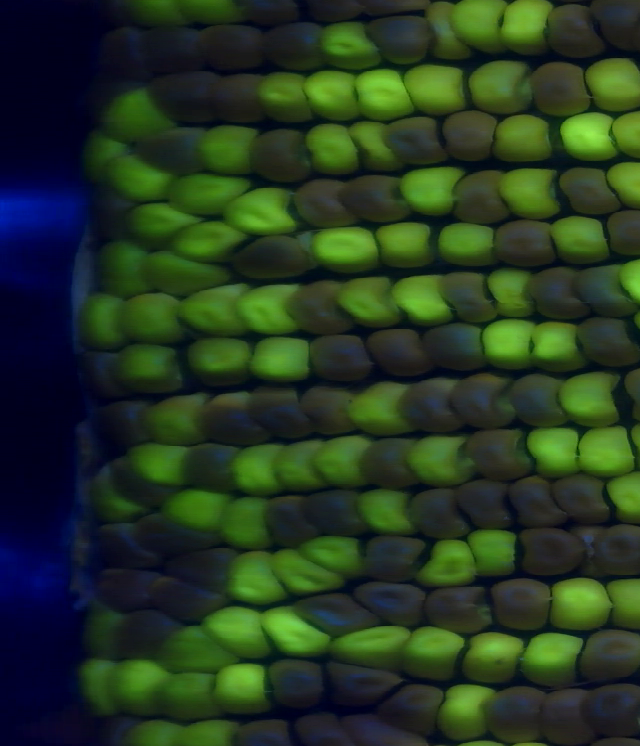fluorescent: (323, 620, 420, 673), (395, 620, 471, 687), (201, 604, 285, 664), (246, 329, 327, 389), (104, 150, 182, 212), (176, 287, 265, 341), (261, 605, 340, 665), (125, 441, 204, 499), (93, 242, 164, 304), (520, 633, 593, 691), (497, 166, 564, 229), (247, 69, 318, 128), (145, 670, 227, 721), (196, 122, 267, 180), (118, 290, 195, 343), (402, 61, 473, 118), (547, 573, 619, 629), (351, 484, 423, 540), (71, 657, 130, 725), (169, 218, 256, 264), (155, 623, 240, 670), (183, 331, 256, 385), (304, 121, 368, 182), (100, 87, 178, 137), (137, 394, 213, 445), (457, 633, 529, 686), (303, 226, 384, 273), (489, 117, 562, 169), (213, 489, 275, 550), (480, 259, 544, 318), (396, 273, 462, 330), (73, 292, 139, 349), (403, 167, 469, 224), (115, 343, 187, 395), (299, 66, 367, 121), (222, 551, 291, 605), (234, 287, 305, 339), (464, 60, 531, 115), (492, 1, 559, 56), (164, 485, 242, 532), (302, 535, 371, 588), (142, 251, 231, 292), (223, 189, 300, 236), (107, 660, 174, 714), (526, 426, 594, 479), (435, 680, 497, 738), (211, 662, 276, 717), (372, 219, 437, 274), (559, 367, 623, 422), (271, 546, 341, 596), (410, 433, 473, 488), (552, 212, 616, 266), (319, 22, 394, 68), (557, 111, 622, 164), (350, 65, 415, 118), (166, 173, 254, 212), (433, 221, 507, 267), (418, 534, 479, 589), (335, 278, 397, 332), (269, 439, 334, 490), (87, 462, 142, 522), (480, 321, 545, 371), (77, 601, 133, 659), (465, 526, 524, 581), (583, 55, 640, 111), (230, 443, 286, 500), (78, 126, 130, 186), (452, 1, 513, 52), (577, 423, 633, 478), (316, 436, 372, 491), (344, 385, 412, 430), (530, 320, 583, 376), (120, 717, 222, 746), (348, 118, 402, 171), (115, 198, 191, 234), (177, 717, 256, 746), (127, 1, 203, 30), (180, 1, 254, 28), (604, 471, 640, 522), (608, 576, 640, 632), (610, 157, 640, 213)
nonfluorescent: (538, 1, 618, 65), (298, 483, 378, 542), (367, 11, 450, 67), (196, 19, 277, 76), (293, 587, 378, 640), (149, 569, 234, 621), (530, 62, 607, 119), (515, 523, 590, 581), (447, 163, 516, 226), (286, 283, 358, 343), (339, 174, 419, 227), (358, 321, 431, 378), (486, 575, 563, 629), (319, 654, 402, 704), (487, 217, 561, 273), (261, 657, 331, 716), (176, 440, 251, 495), (508, 474, 577, 533), (153, 543, 252, 584), (402, 487, 470, 546), (448, 371, 516, 430), (232, 234, 312, 284), (250, 383, 317, 442), (416, 584, 495, 634), (386, 116, 455, 173), (439, 108, 505, 167), (133, 508, 217, 554), (144, 70, 221, 120), (303, 335, 377, 386), (483, 685, 544, 746), (296, 377, 357, 438), (260, 493, 319, 556), (550, 472, 615, 529), (377, 679, 448, 731), (202, 389, 269, 444), (465, 424, 533, 478), (94, 399, 166, 449), (421, 323, 494, 372), (359, 576, 430, 626), (505, 373, 566, 431), (400, 378, 462, 435), (92, 519, 158, 572), (359, 437, 421, 493), (105, 460, 177, 508), (257, 132, 317, 189), (559, 161, 621, 216), (573, 314, 636, 368), (285, 178, 354, 226), (342, 713, 441, 746), (208, 68, 270, 120), (587, 681, 640, 741), (117, 606, 183, 654), (261, 26, 336, 68), (454, 479, 514, 530), (440, 273, 502, 322), (540, 690, 594, 746), (98, 29, 160, 77), (151, 25, 213, 71), (580, 632, 640, 679), (358, 535, 427, 575), (588, 1, 640, 53), (534, 270, 584, 322), (575, 265, 631, 311), (235, 1, 319, 31), (592, 526, 640, 578), (281, 710, 350, 746), (95, 567, 161, 604), (135, 127, 198, 164), (228, 716, 300, 746), (91, 210, 140, 249), (604, 209, 640, 258), (87, 178, 140, 209), (317, 1, 369, 19)
